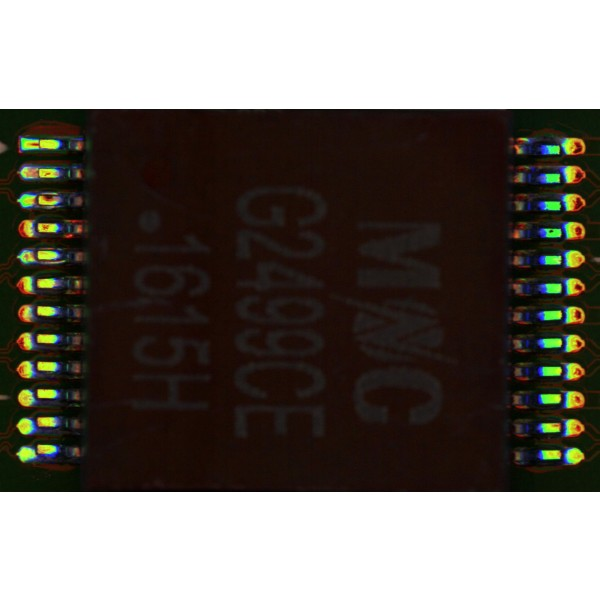Bad_podu: (29, 197, 45, 205), (30, 141, 48, 148), (33, 170, 47, 177)
Bad_qiaojiao: (36, 260, 66, 265)
